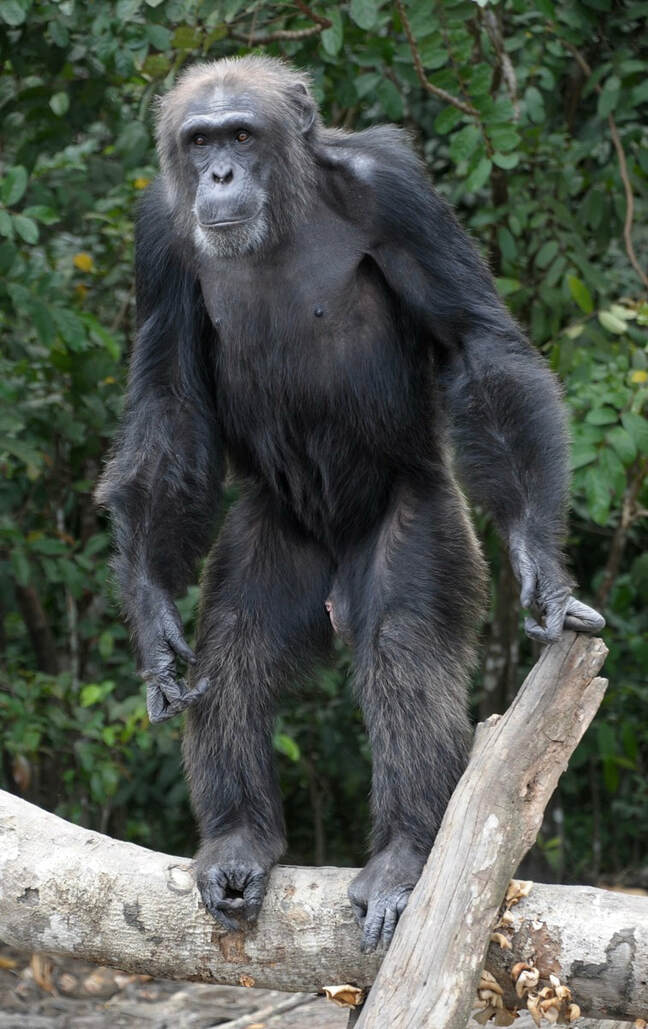Chimpanzee: (123, 42, 565, 903)
